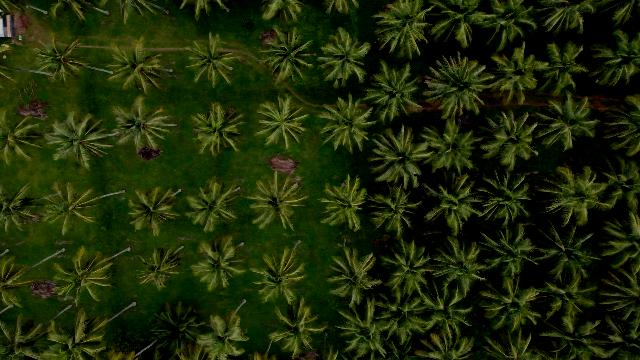trees: (533, 164, 614, 228), (421, 53, 493, 119), (530, 93, 602, 155), (44, 112, 118, 171), (528, 220, 602, 277), (109, 96, 177, 156), (481, 46, 547, 107), (52, 246, 119, 306), (105, 36, 173, 95), (421, 175, 486, 236), (478, 270, 543, 331), (416, 117, 482, 177), (423, 235, 489, 295), (334, 292, 394, 358), (370, 126, 433, 188), (361, 60, 423, 122), (245, 172, 309, 232), (532, 309, 608, 358), (268, 296, 327, 359), (476, 110, 540, 168), (39, 182, 105, 237), (44, 307, 112, 360), (471, 170, 535, 226), (475, 225, 540, 280), (251, 245, 311, 304), (320, 93, 379, 153), (185, 32, 248, 88), (372, 3, 435, 59), (414, 275, 477, 331), (32, 35, 93, 91), (255, 93, 312, 151), (261, 27, 317, 86), (150, 300, 210, 355), (379, 237, 434, 297), (329, 240, 379, 305), (191, 237, 250, 292), (184, 180, 244, 234), (191, 103, 248, 159), (426, 2, 489, 51), (363, 182, 419, 237), (535, 41, 592, 95), (319, 28, 372, 86), (586, 36, 640, 91), (477, 3, 537, 51), (2, 107, 50, 166), (128, 188, 182, 239), (196, 310, 250, 360), (2, 178, 47, 237), (322, 177, 369, 233), (2, 312, 55, 360), (137, 245, 187, 291), (1, 256, 43, 310), (417, 326, 479, 360), (537, 2, 593, 36), (109, 1, 167, 25), (50, 2, 104, 25), (179, 2, 232, 23)
